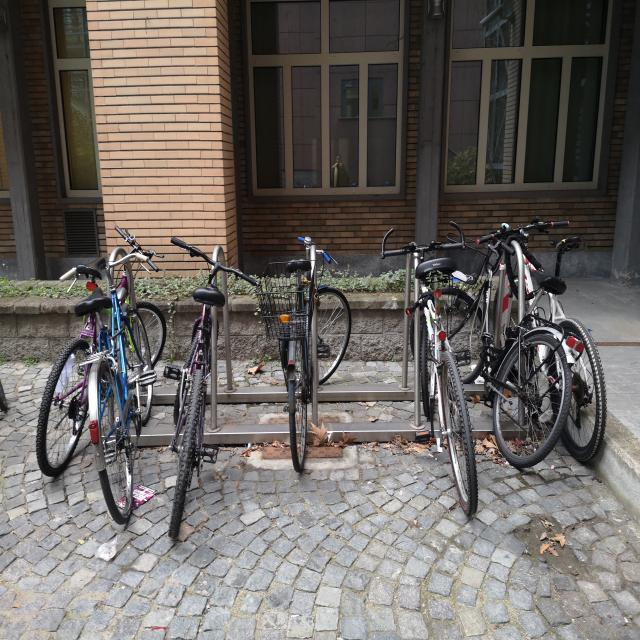Bicycle: (438, 207, 566, 492), (379, 199, 481, 520), (500, 207, 622, 473), (44, 225, 171, 474), (167, 181, 243, 581), (254, 237, 354, 501), (87, 255, 156, 510)
